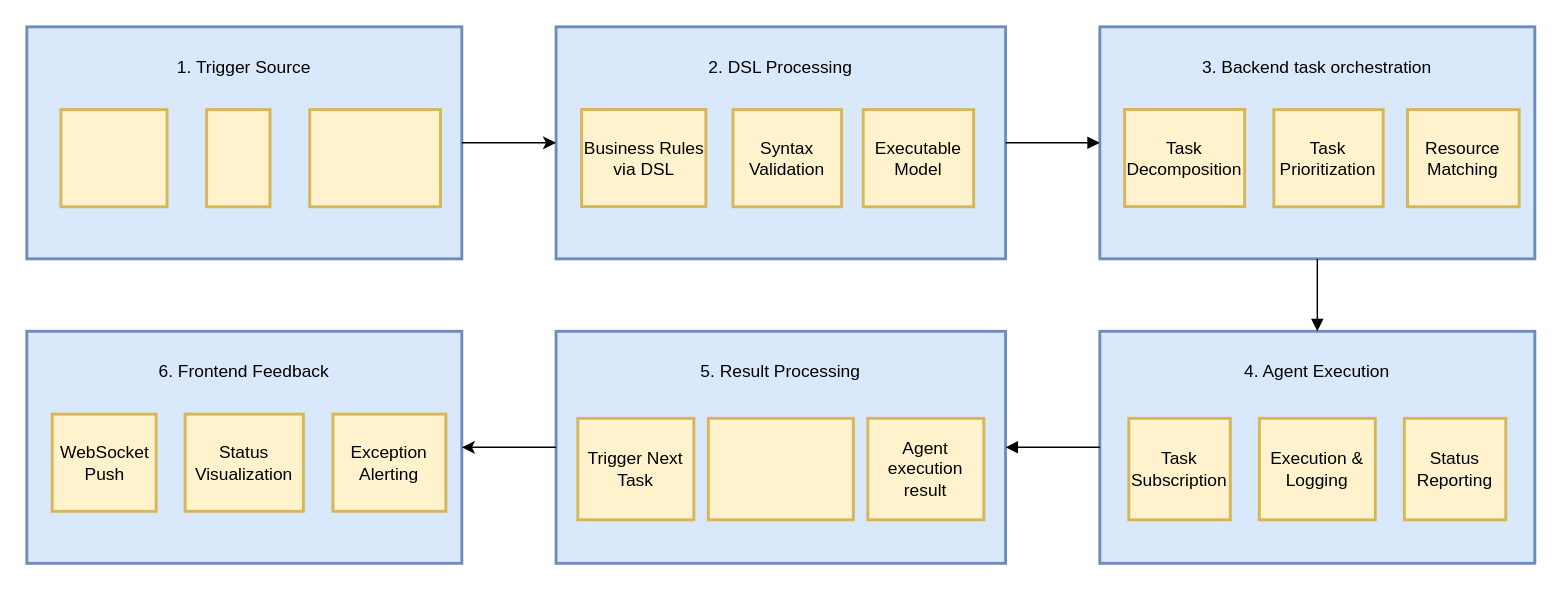
This 1560x589 diagram has some shape labels left out. Each missing label, with the centre of its shape:
"Backend result verification & storage" belongs at [780,468].
"External Event" belongs at [374,157].
"OR" belongs at [237,157].
"User Input" belongs at [113,157].
